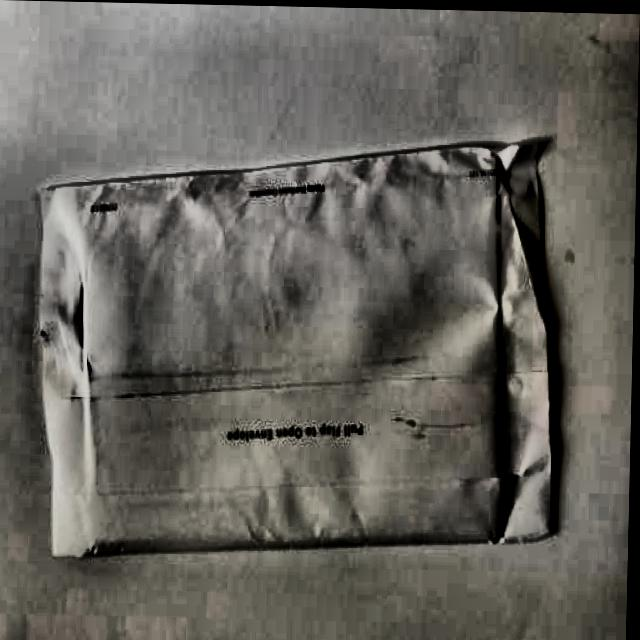Paper: (27, 122, 572, 579)
